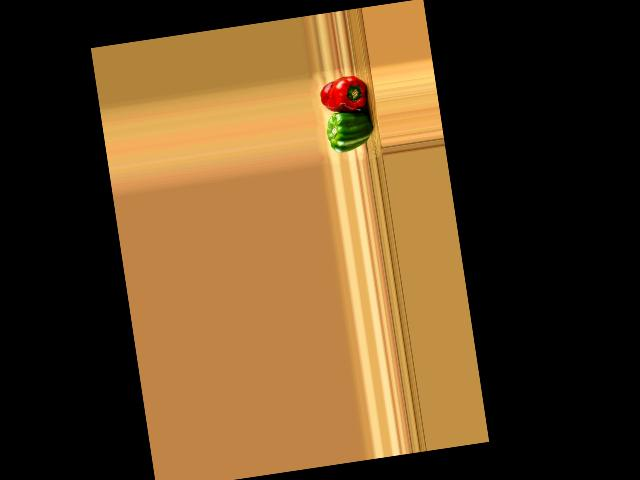bell_pepper: (317, 72, 369, 117)
